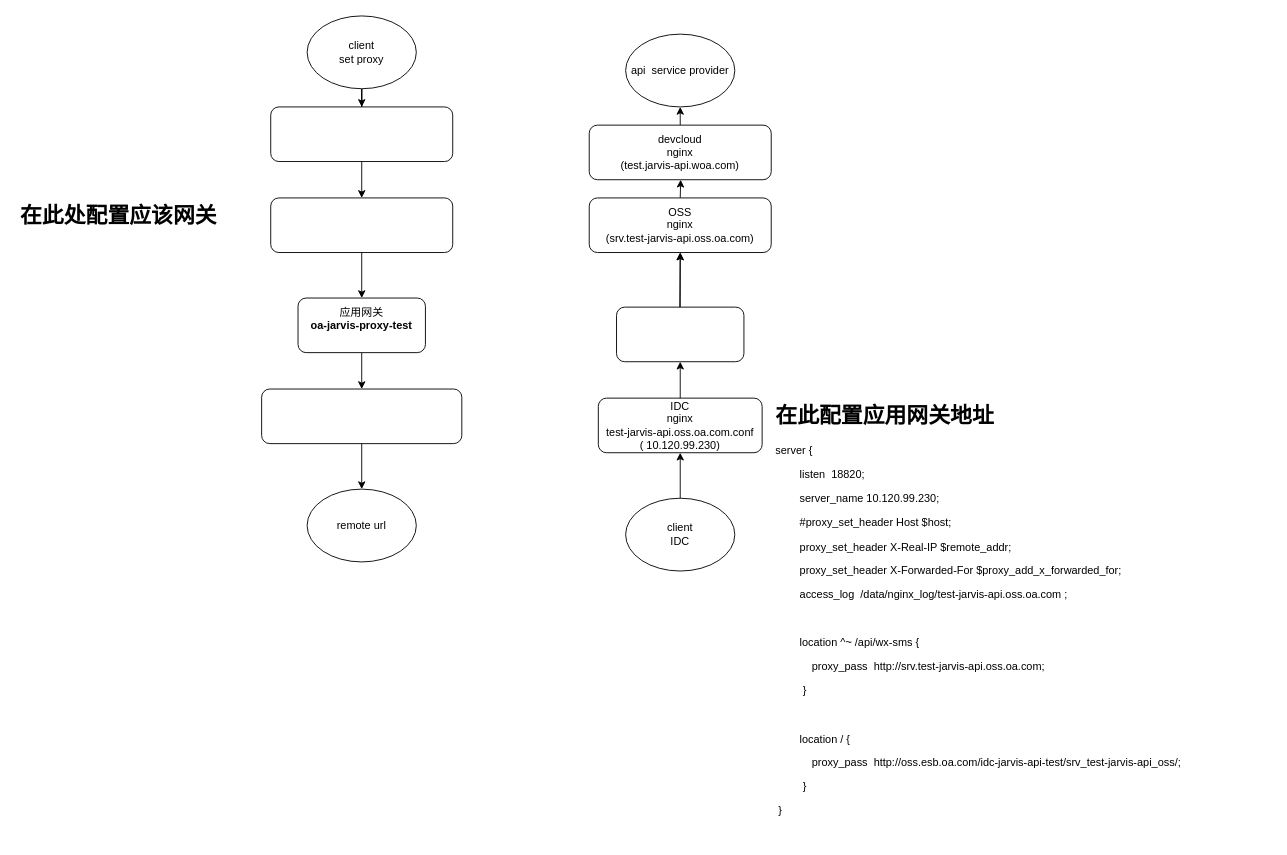
Image size: 1287x855. Some labels were removed from this diagram. The shapes that lost their labels are listed below. From the top down, each one's centre as x and y in pixels, then its label:
At pixel 361 134: "devcloud nginx (test.jarvis-proxy.woa.com)".
At pixel 361 225: "OSS nginx (srv.test-jarvis-proxy.oss.oa.com)".
At pixel 680 334: "应用网关 idc-jarvis-api-test".
At pixel 361 416: "IDC nginx test.idc.jarvis-proxy.woa.com.conf ( 10.120.99.230)".
